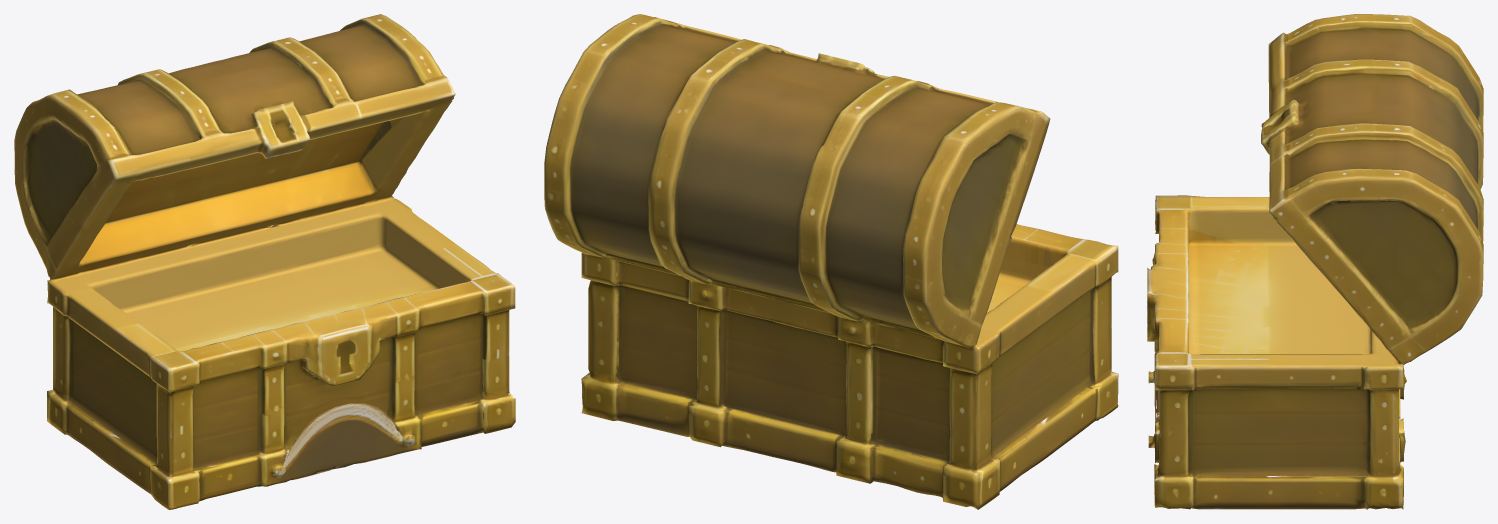
The model's file is treasure-chest.glb.
3 views of the same model, side by side, from view 1: azimuth 30°, elevation 25°; view 2: azimuth 150°, elevation 25°; view 3: azimuth 270°, elevation 25° (orthographic). The views are drawn at different scales.
Visible parts, largest first — view 1: model; view 2: model; view 3: model.
Boxes of the visible parts, x1,y1,x2,y2 form: model: [14, 14, 515, 509]; model: [544, 14, 1118, 509]; model: [1147, 14, 1483, 509].
Bounding box in the file's own units: 1.9 × 1.69 × 1.57.
Materials: 1 (1 with a texture image).
